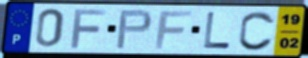0: (33, 7, 66, 50)
C: (237, 10, 277, 52)
F: (153, 10, 195, 50), (69, 8, 109, 50)
L: (202, 11, 232, 50)
P: (114, 8, 154, 50)
